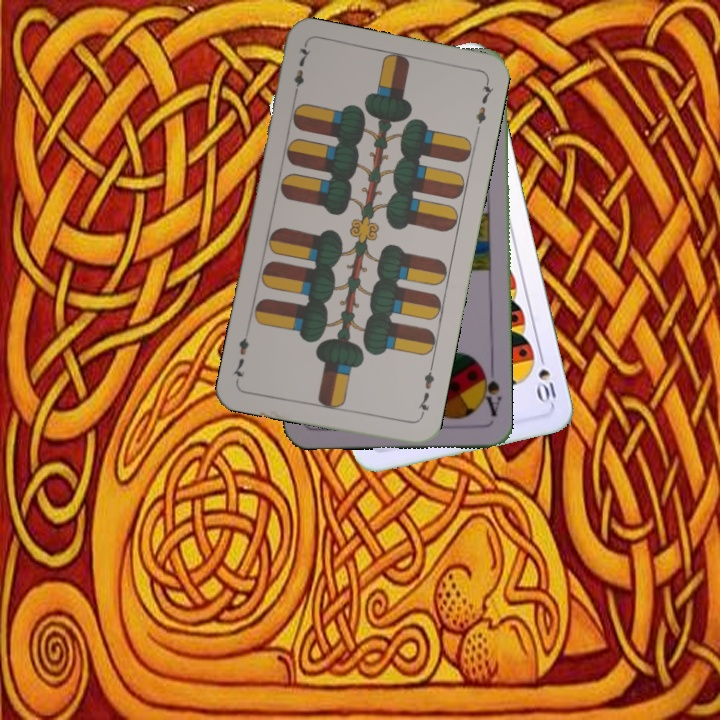E7: (289, 42, 314, 101), (414, 362, 437, 421)
S10: (534, 348, 559, 407)
SA: (476, 363, 504, 419)
